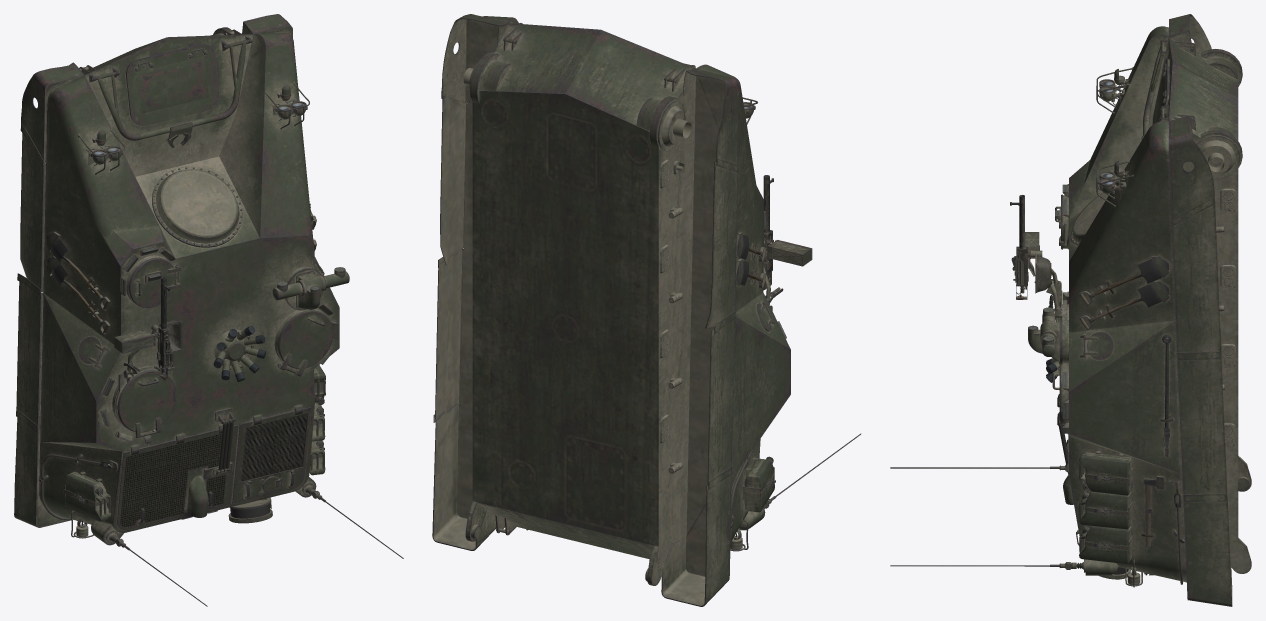
File: Hull.glb
3 renders of one model, left to right at view 1: azimuth 30°, elevation 25°; view 2: azimuth 150°, elevation 25°; view 3: azimuth 270°, elevation 25°, orthographic. The views are drawn at different scales.
Visible parts, largest first — view 1: set_0_group_0; view 2: set_0_group_0; view 3: set_0_group_0.
Part boxes in pixels (x1,y1,x2,y2): set_0_group_0: (14, 14, 403, 606); set_0_group_0: (432, 14, 861, 606); set_0_group_0: (890, 14, 1251, 606).
Size of the model in its own units: 2.7 by 4.85 by 3.28.
Materials: 1 (1 with a texture image).
